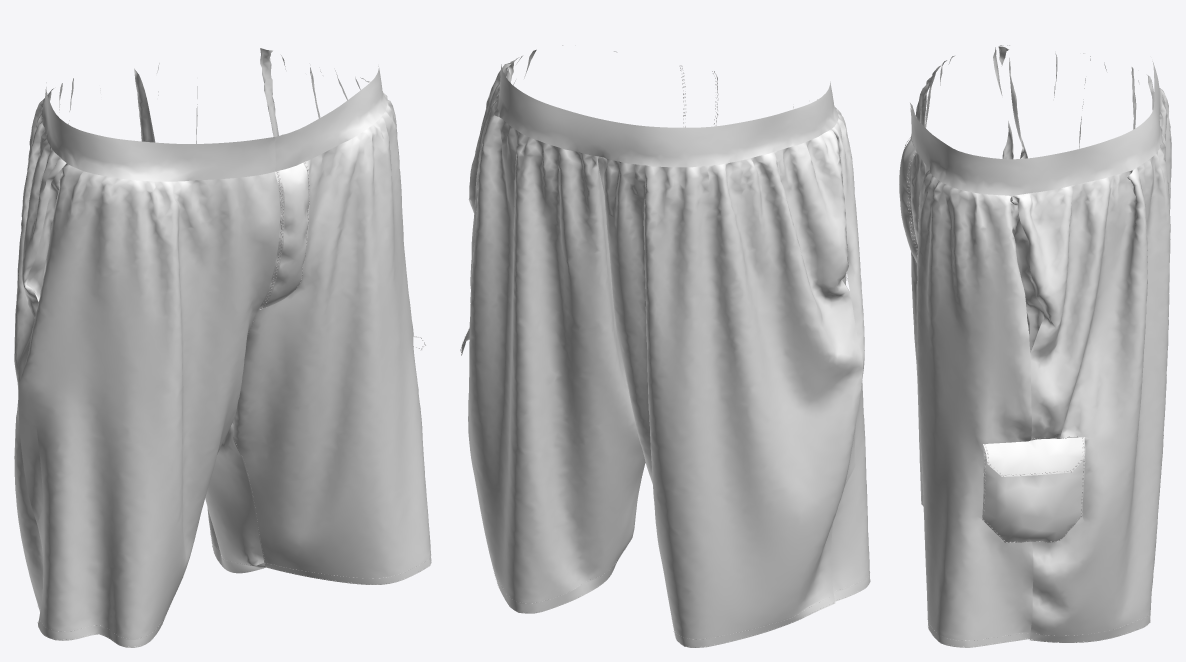
Rendered from Volleyball shorts spandex 4.glb.
The picture shows the model from 3 angles, left to right: view 1: azimuth 30°, elevation 25°; view 2: azimuth 150°, elevation 25°; view 3: azimuth 270°, elevation 25°; orthographic projection. The views are drawn at different scales.
Visible parts, largest first — view 1: Pattern_3486357; view 2: Pattern_3486357; view 3: Pattern_3486357.
Boxes of the visible parts, bbox=[...] form: Pattern_3486357: bbox=[14, 48, 431, 647]; Pattern_3486357: bbox=[460, 45, 870, 647]; Pattern_3486357: bbox=[899, 45, 1171, 647].
Bounding box in the file's own units: 0.4486 × 0.5674 × 0.2788.
6 materials, 3 textured.
